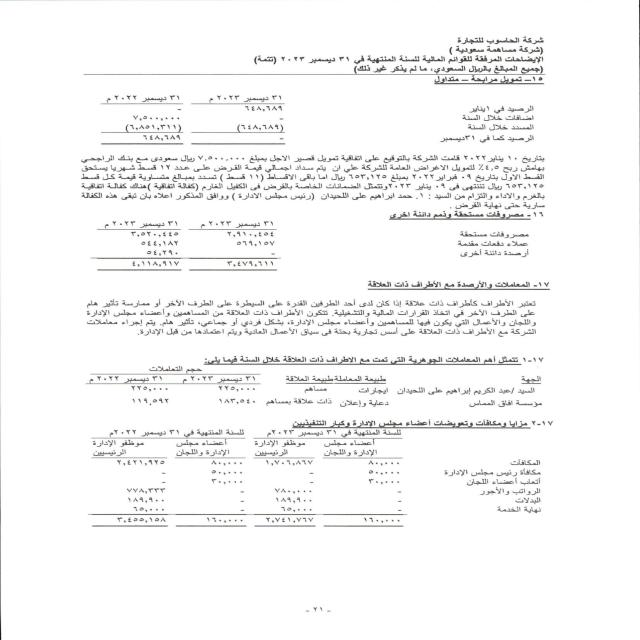notes: (422, 56, 548, 64)
table: (81, 427, 435, 532), (69, 366, 555, 408), (83, 211, 290, 280), (82, 88, 290, 153)
